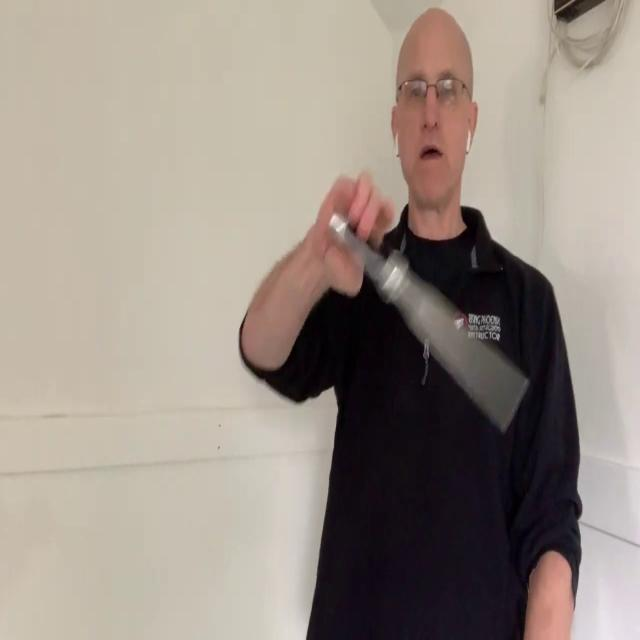Knife_Handle: (321, 169, 528, 434)
